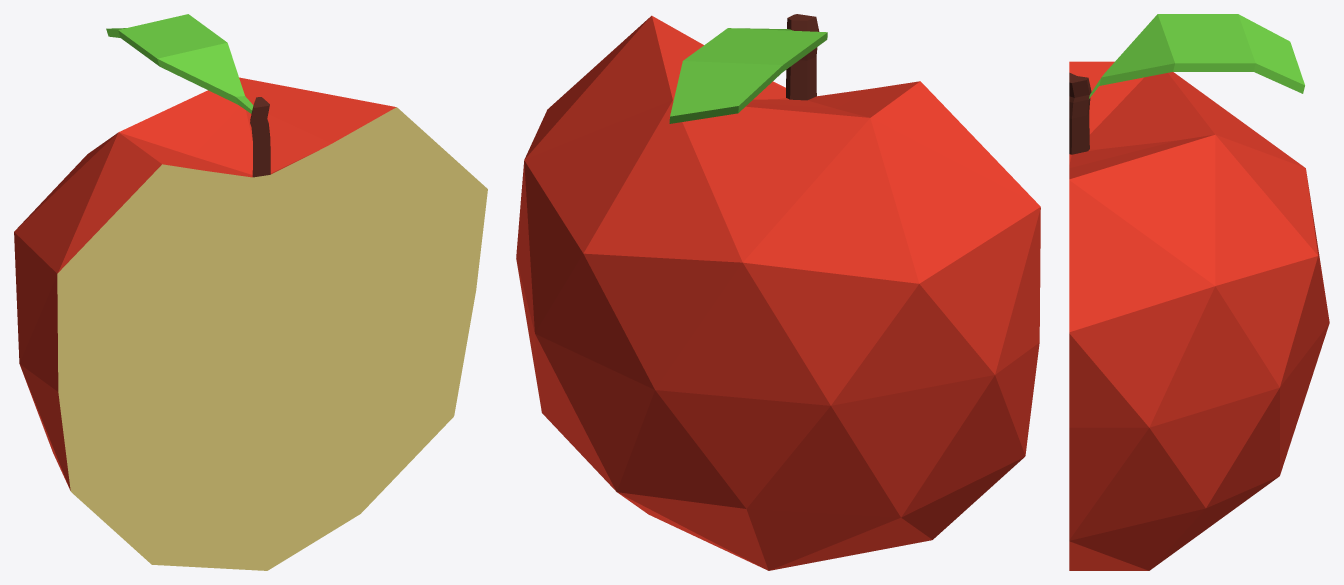
File: AppleHalf2.fbx
3 renders of one model, left to right at view 1: azimuth 30°, elevation 25°; view 2: azimuth 150°, elevation 25°; view 3: azimuth 270°, elevation 25°, orthographic. The views are drawn at different scales.
Parts seen in each view (by area): view 1: AppleHalf2; view 2: AppleHalf2; view 3: AppleHalf2.
Boxes of the visible parts, left/top/right/bottom form: AppleHalf2: left=14, top=14, right=487, bottom=570; AppleHalf2: left=516, top=14, right=1040, bottom=570; AppleHalf2: left=1069, top=14, right=1329, bottom=570.
Bounding box in the file's own units: 196 × 216 × 99.79.
